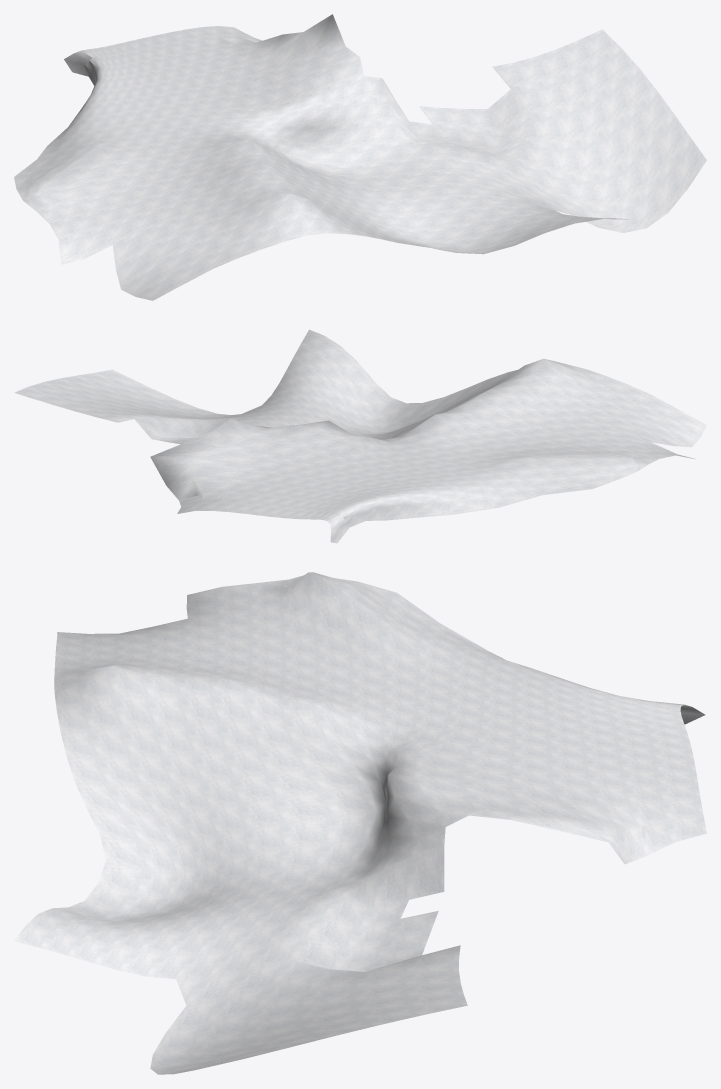
Rendered from alt_snow.glb.
3 renders of one model, top to bottom at view 1: azimuth 30°, elevation 25°; view 2: azimuth 150°, elevation 25°; view 3: azimuth 270°, elevation 25°, orthographic. The views are drawn at different scales.
Parts seen in each view (by area): view 1: Grid; view 2: Grid; view 3: Grid.
Part boxes in pixels (x1,y1,x2,y2): Grid: (14, 14, 706, 300); Grid: (14, 329, 706, 543); Grid: (14, 572, 706, 1074).
Bounding box in the file's own units: 57.45 × 11.28 × 41.33.
1 material, 1 textured.
